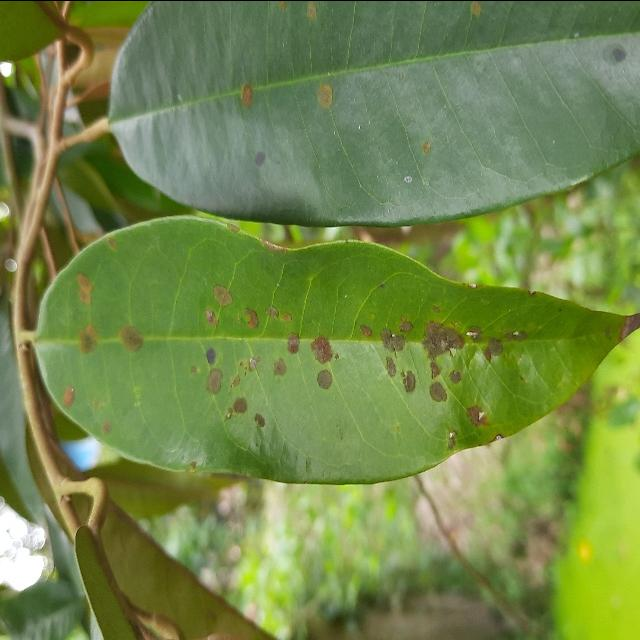Algal Leaf Spot: (25, 211, 640, 491)
